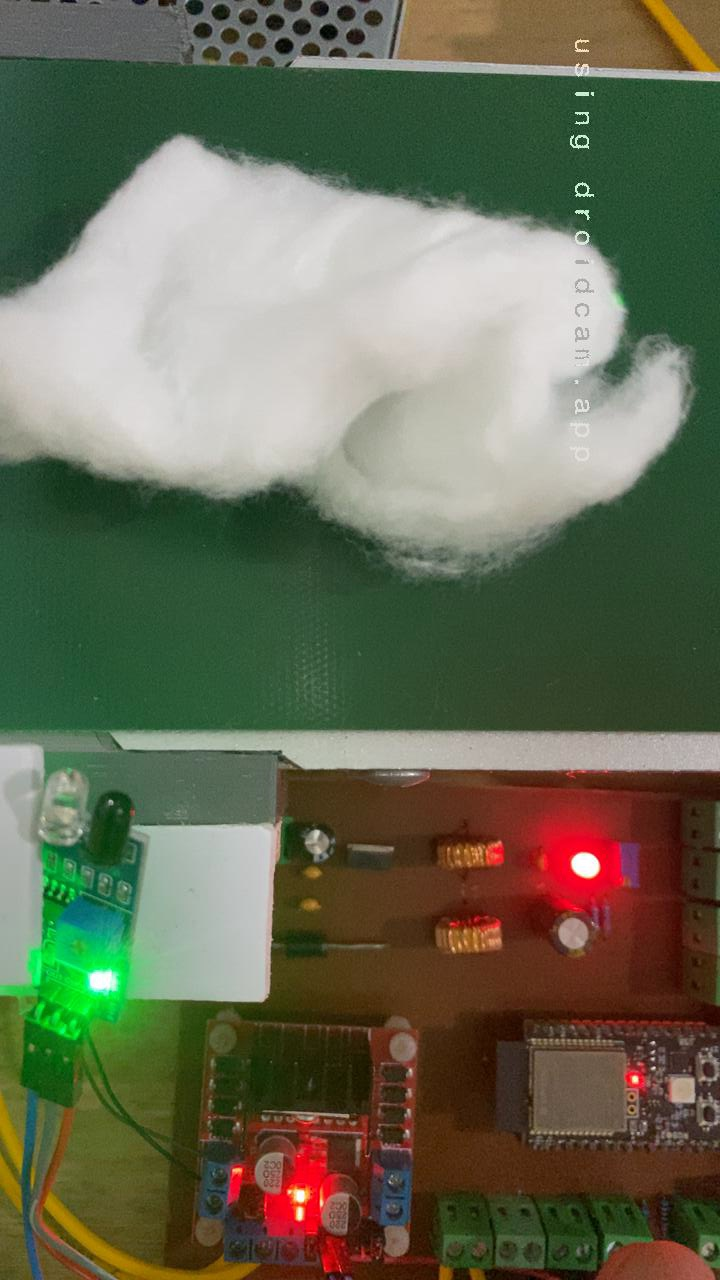cotton: (0, 128, 698, 583)
